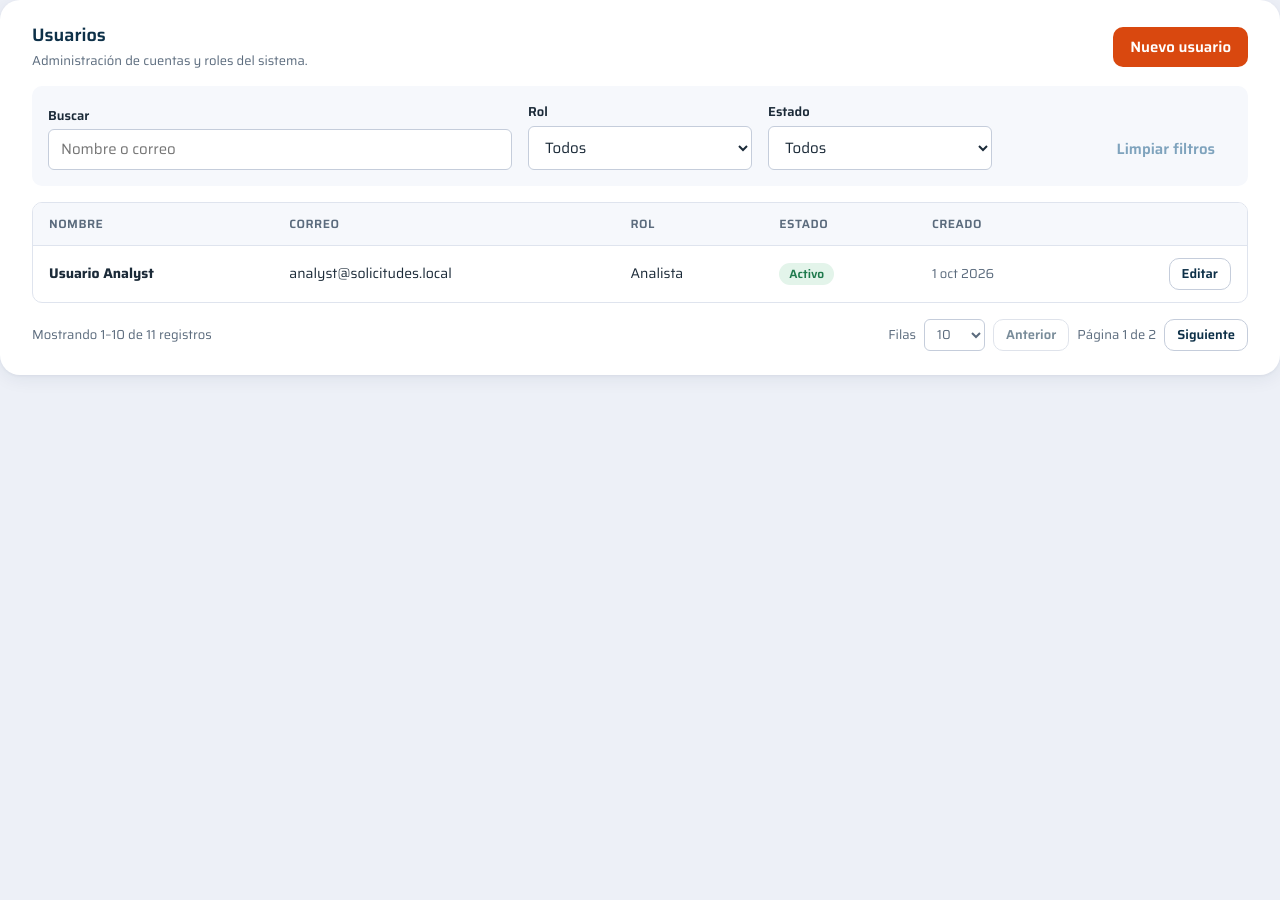
Test: UsersPage › muestra el error de correo duplicado y mantiene el diálogo abierto
The image size is (1280, 900).
Step 1. Click the button "Nuevo usuario" → [1181, 47], box [1113,27,1248,67]
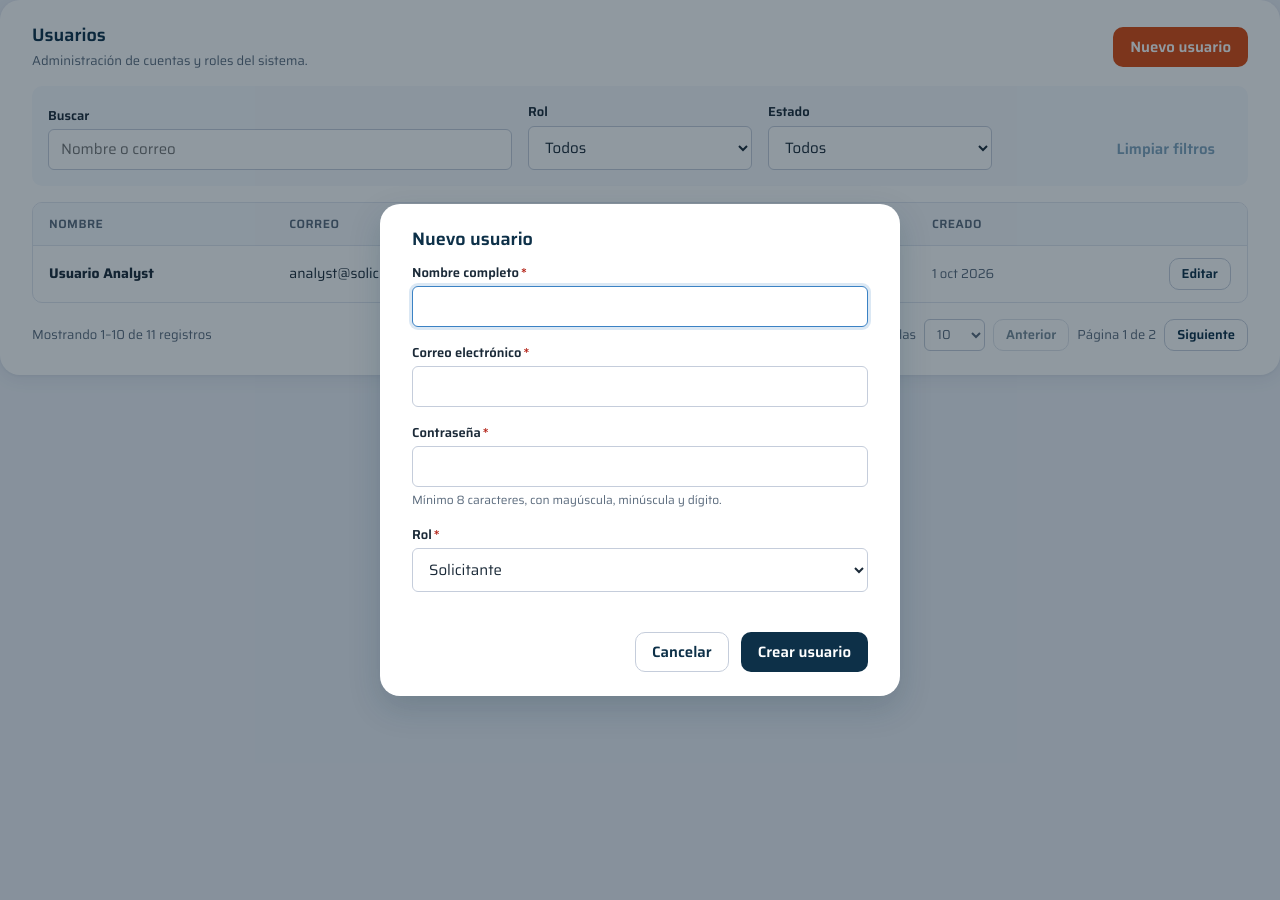
Step 2. Type "Laura Gómez" into the field labelled "Nombre completo*" → [640, 306], box [412,286,868,326]
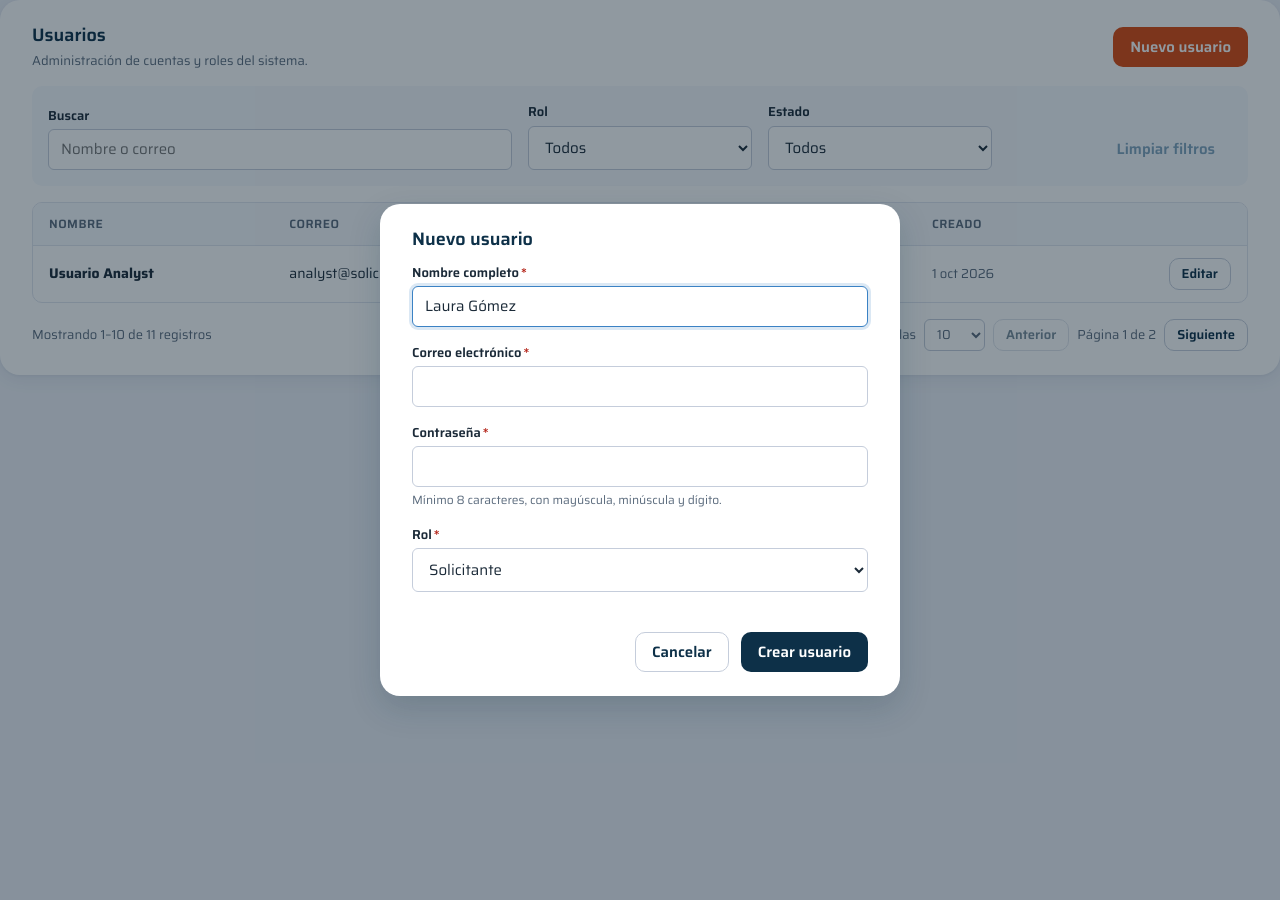
Step 3. Type "laura.gomez@solicitudes.local" into the field labelled "Correo electrónico*" → [640, 386], box [412,366,868,406]
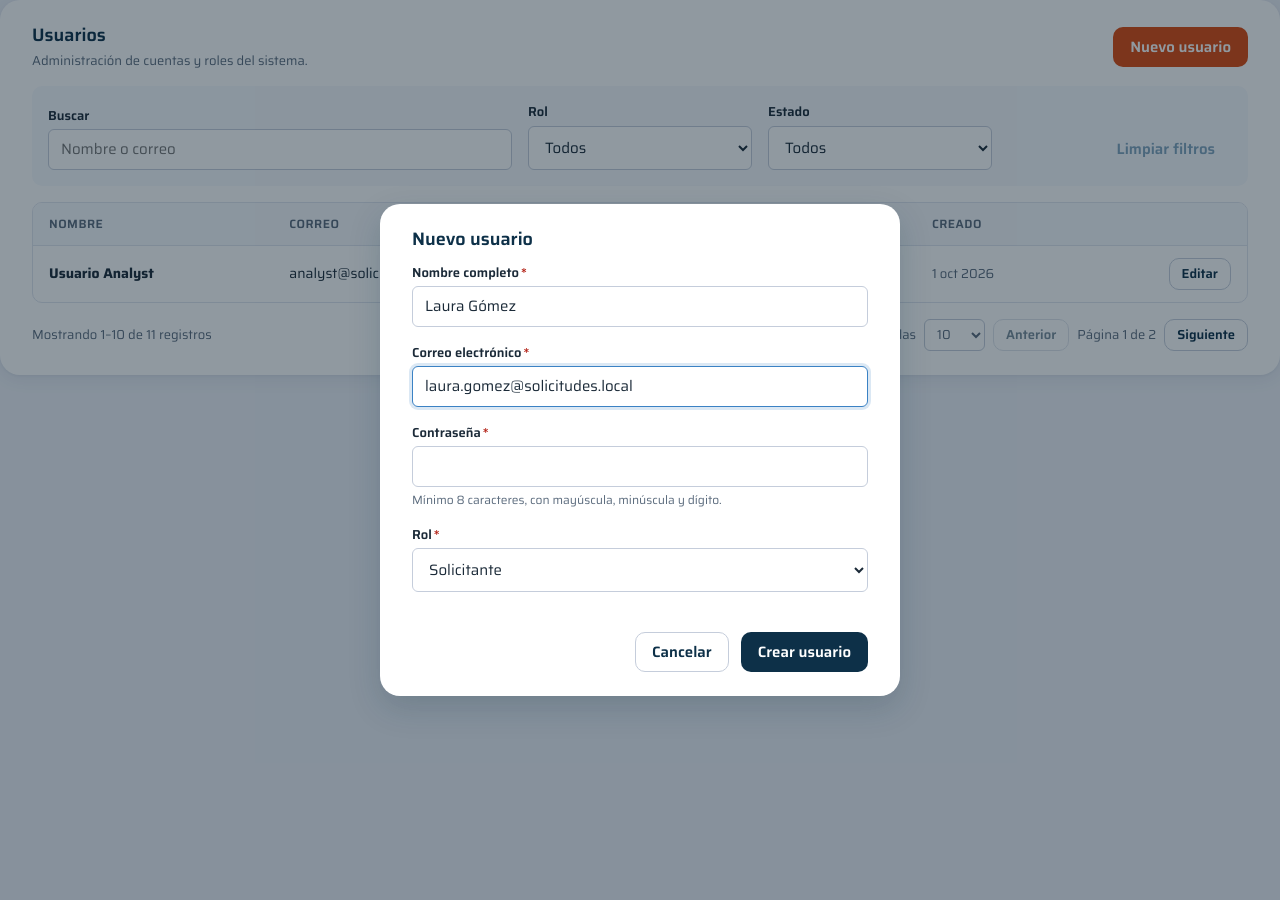
Step 4. Type "Segura2026" into the password field labelled "Contraseña*" → [640, 466], box [412,446,868,486]
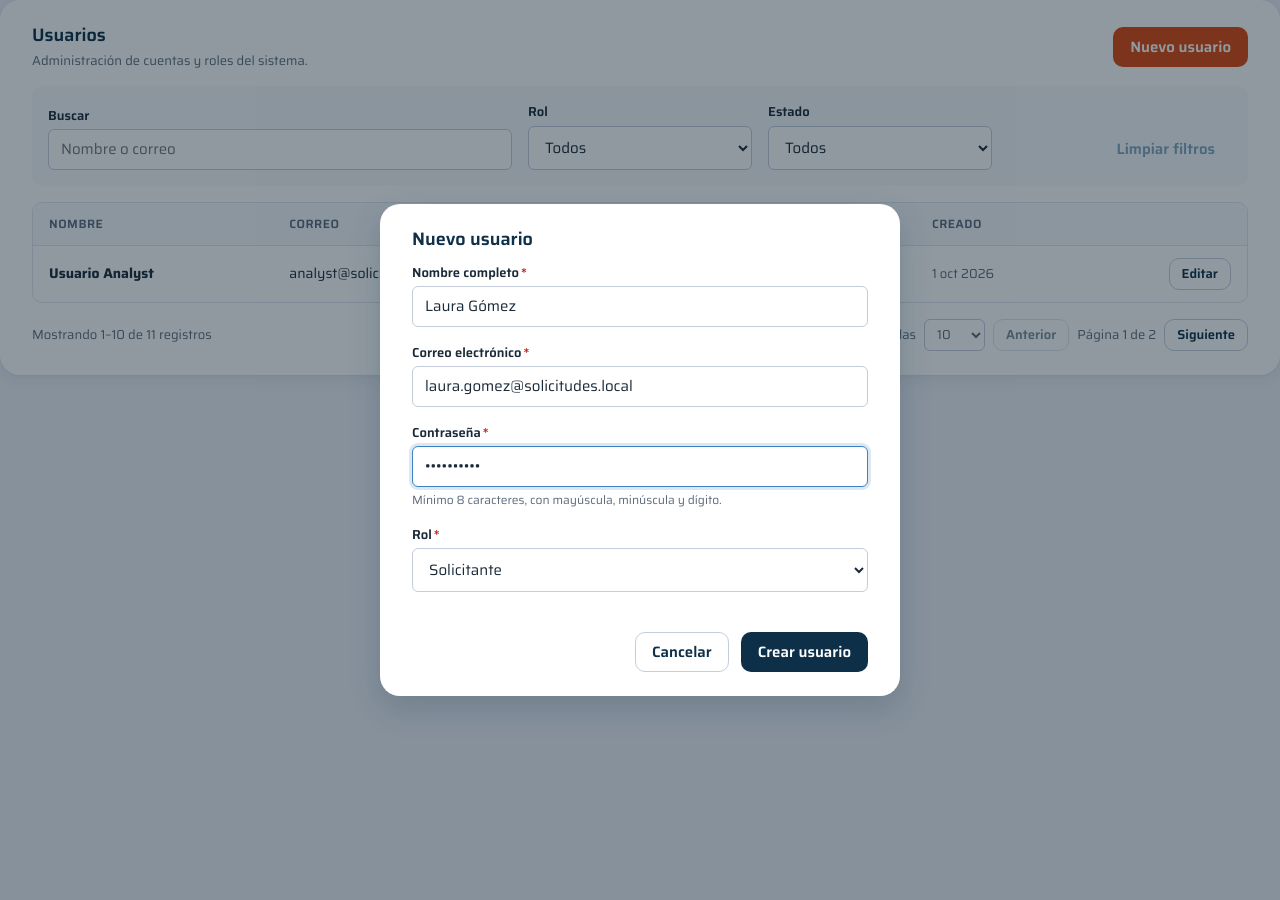
Step 5. Select "Analista" in the dropdown labelled "Rol*" → [640, 570], box [412,548,868,592]
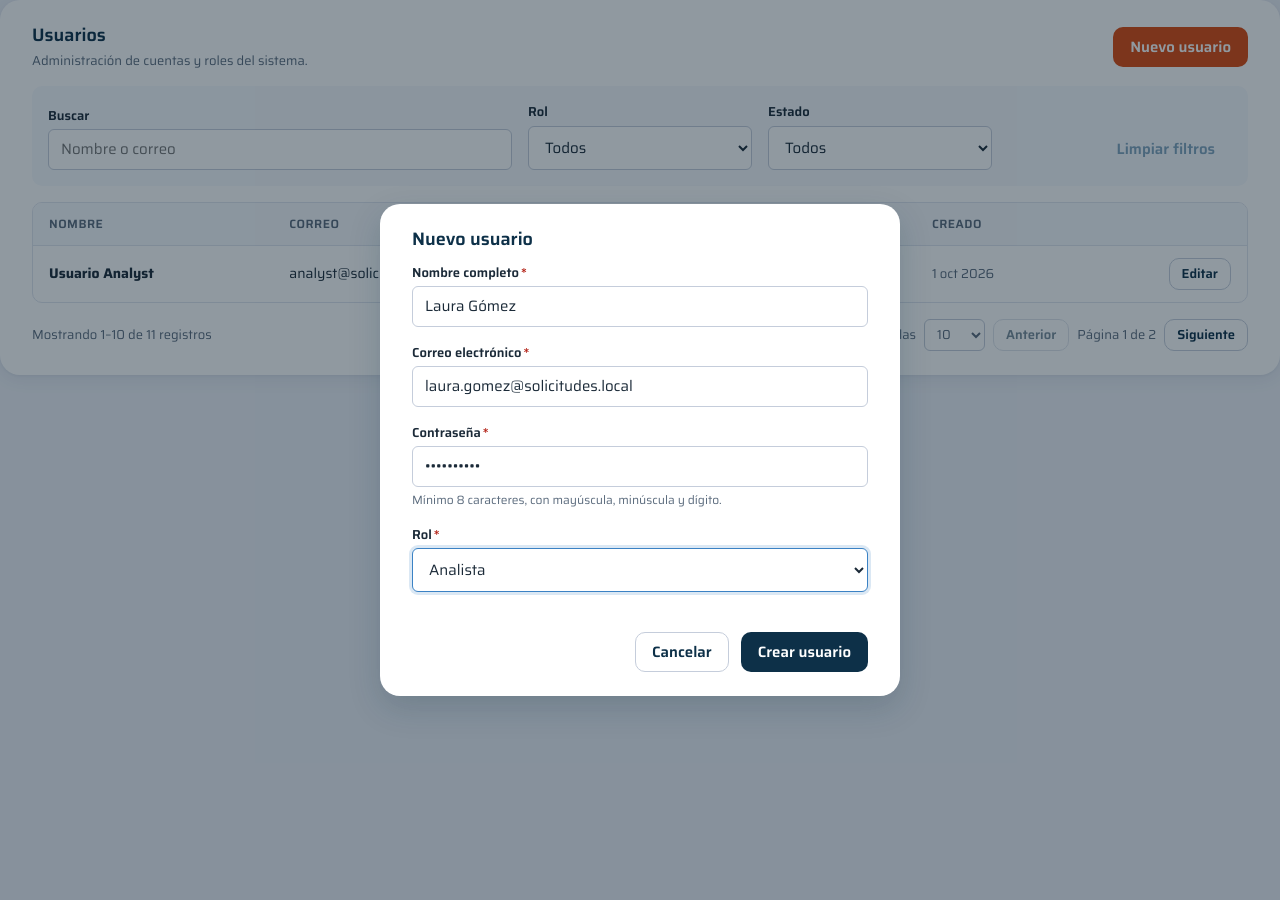
Step 6. Click the button "Crear usuario" → [804, 652], box [741,632,868,672]
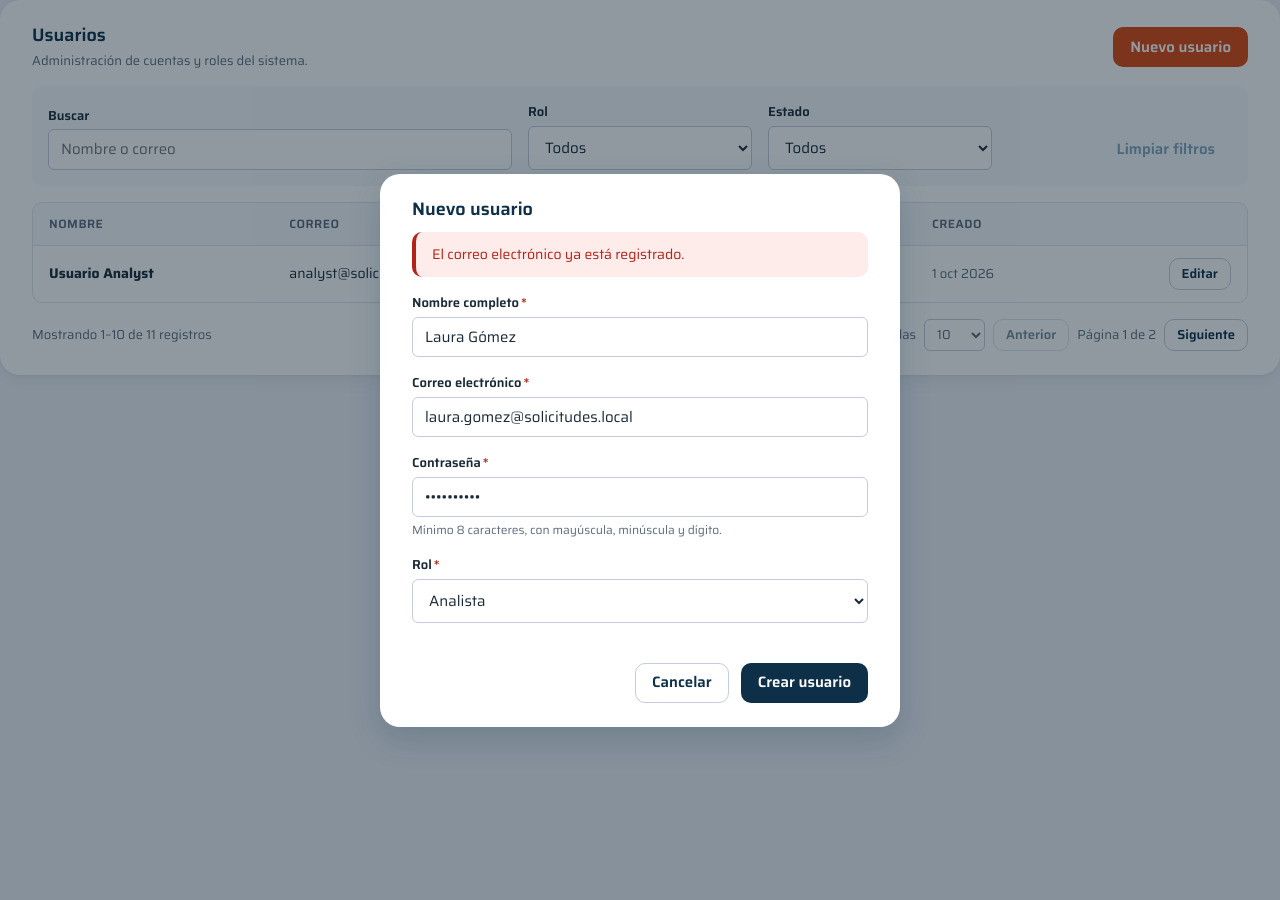
expect the message reads "El correo electrónico ya está registrado.": met, box [432,243,684,265]
